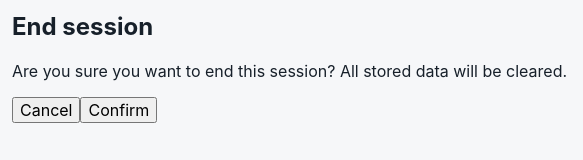
Test: displays a confirmation message and invokes onSessionEnded on success
Click the button "Confirm" at (119, 110), box [80, 97, 157, 123]
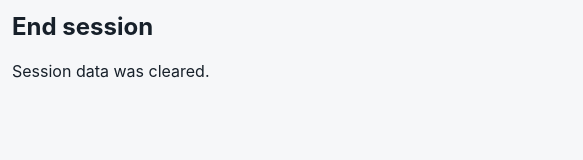
Result: the text "Session data was cleared." is shown at [12, 61, 210, 81]
